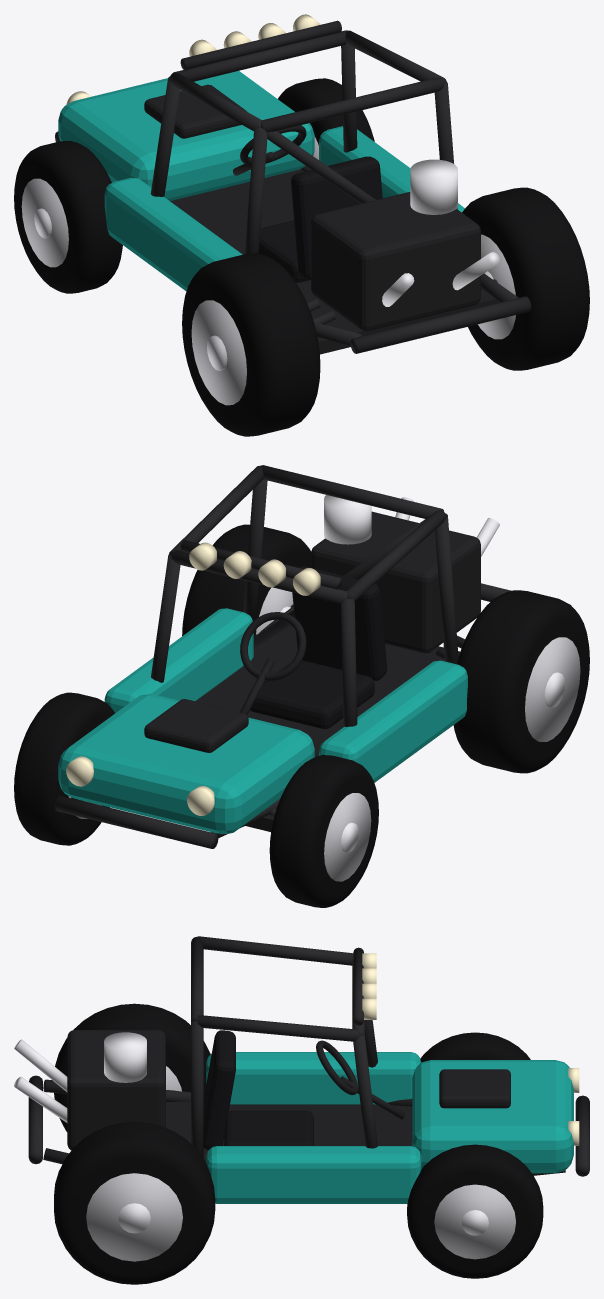
File: Buggy.fbx
3 renders of one model, top to bottom at view 1: azimuth 30°, elevation 25°; view 2: azimuth 150°, elevation 25°; view 3: azimuth 270°, elevation 25°, orthographic. The views are drawn at different scales.
Visible parts, largest first — view 1: Buggy, Wheel_RL.001, Wheel_RR.001, Wheel_FL.001, Wheel_FR.001; view 2: Buggy, Wheel_RL.001, Wheel_FL.001, Wheel_FR.001, Wheel_RR.001; view 3: Buggy, Wheel_RR.001, Wheel_FR.001, Wheel_RL.001, Wheel_FL.001.
Boxes of the visible parts, x1,y1,x2,y2 form: Buggy: (55, 14, 531, 354); Wheel_RL.001: (182, 253, 320, 436); Wheel_RR.001: (462, 187, 589, 370); Wheel_FL.001: (14, 141, 122, 293); Wheel_FR.001: (278, 78, 374, 159); Buggy: (55, 465, 511, 848); Wheel_RL.001: (453, 590, 589, 773); Wheel_FL.001: (269, 755, 378, 907); Wheel_FR.001: (14, 692, 114, 845); Wheel_RR.001: (182, 524, 310, 635); Buggy: (14, 936, 589, 1203); Wheel_RR.001: (54, 1122, 215, 1284); Wheel_FR.001: (407, 1144, 543, 1278); Wheel_RL.001: (54, 1003, 210, 1131); Wheel_FL.001: (420, 1032, 530, 1062).
Bounding box in the file's own units: 1.97 × 1.49 × 3.21.
